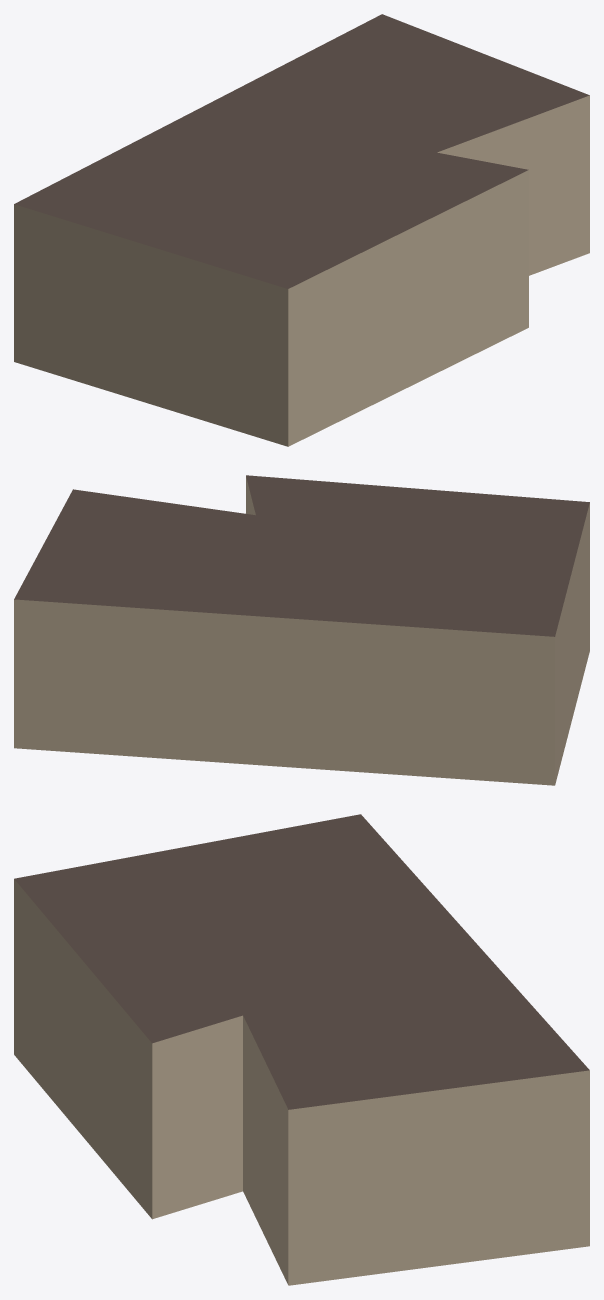
The picture shows the model from 3 angles, top to bottom: view 1: azimuth 30°, elevation 25°; view 2: azimuth 150°, elevation 25°; view 3: azimuth 270°, elevation 25°; orthographic projection. The views are drawn at different scales.
Visible parts, largest first — view 1: HP-w1512497739; view 2: HP-w1512497739; view 3: HP-w1512497739.
Boxes of the visible parts, x1,y1,x2,y2 form: HP-w1512497739: (14, 14, 589, 446); HP-w1512497739: (14, 475, 589, 785); HP-w1512497739: (14, 814, 589, 1285).
Size of the model in its own units: 32.44 by 9 by 26.71.
